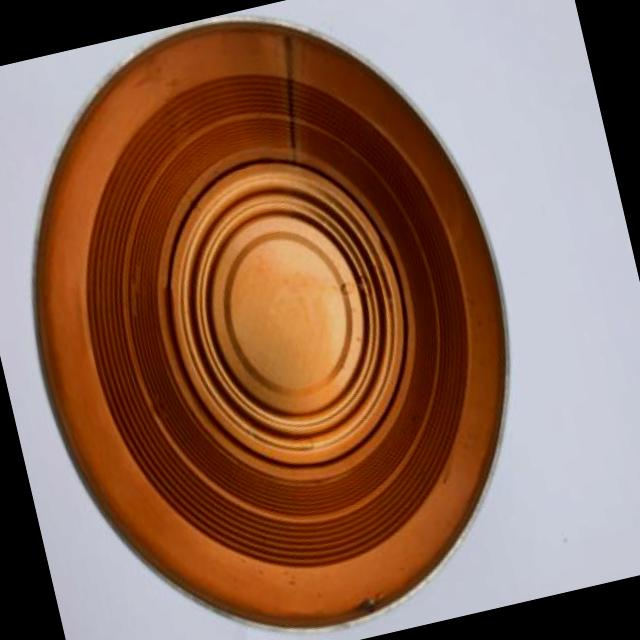kim_loai: (32, 21, 505, 627)
